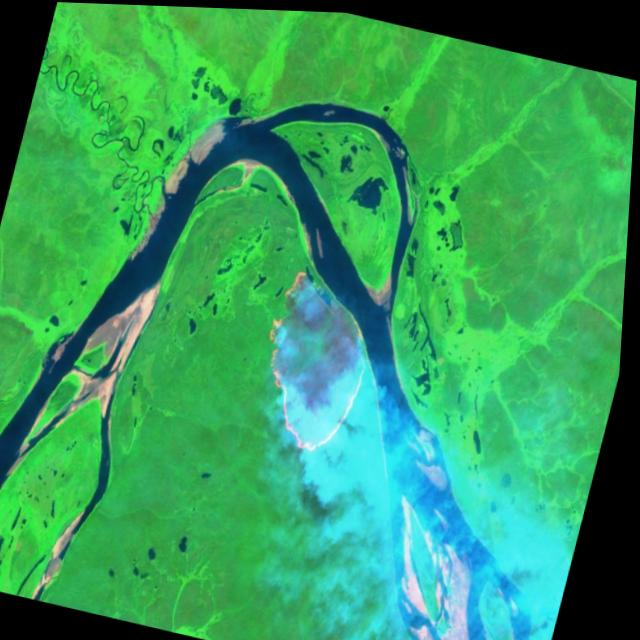fire: (242, 257, 391, 461)
